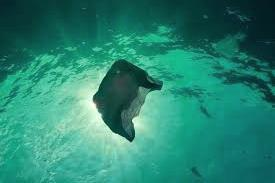Trash: (86, 35, 184, 149)
